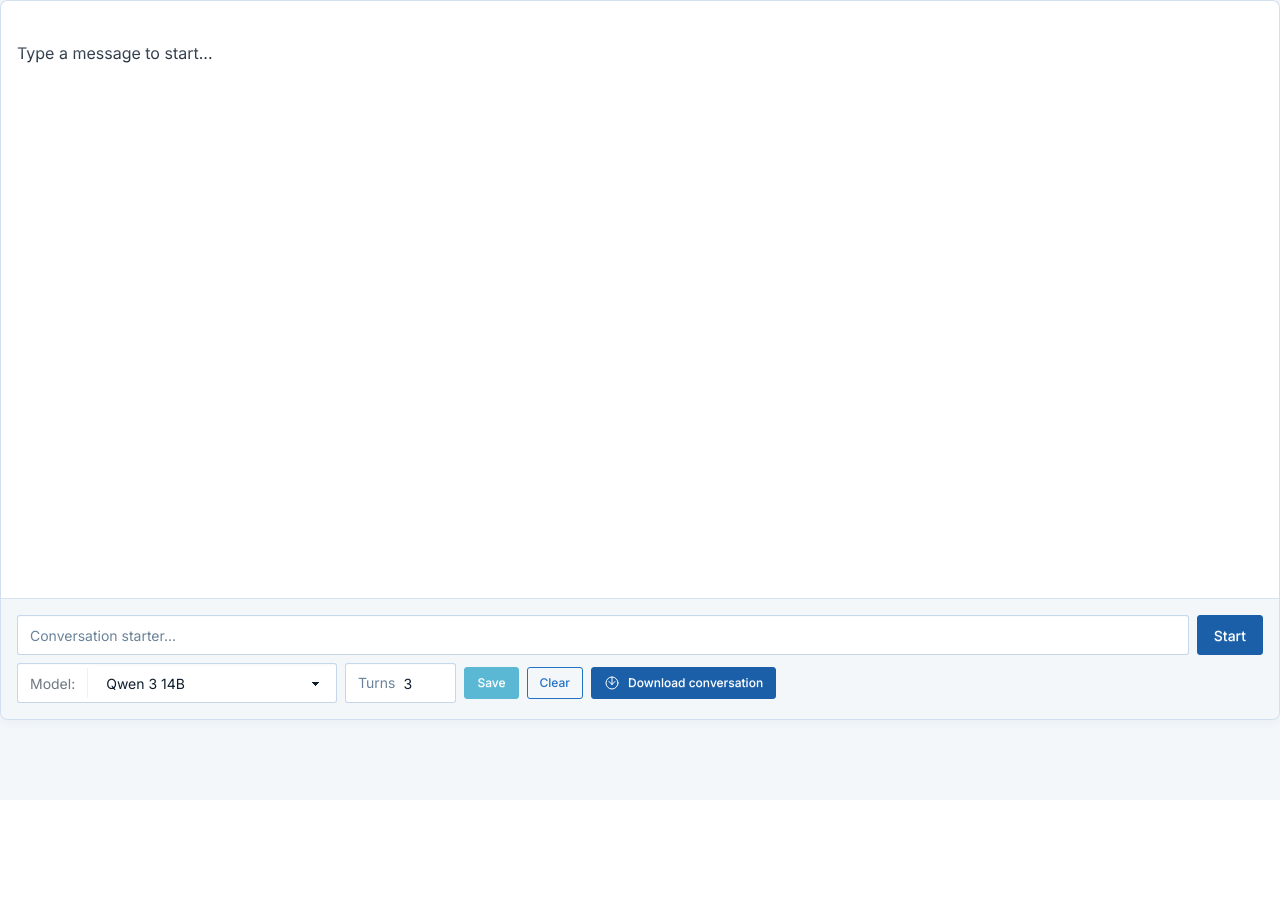
Test case: 13. Start sends POST to /api/conversation and appends user message
Type "Hello!" into the field with placeholder "Conversation starter..." at (603, 635), box [17,615,1189,655]
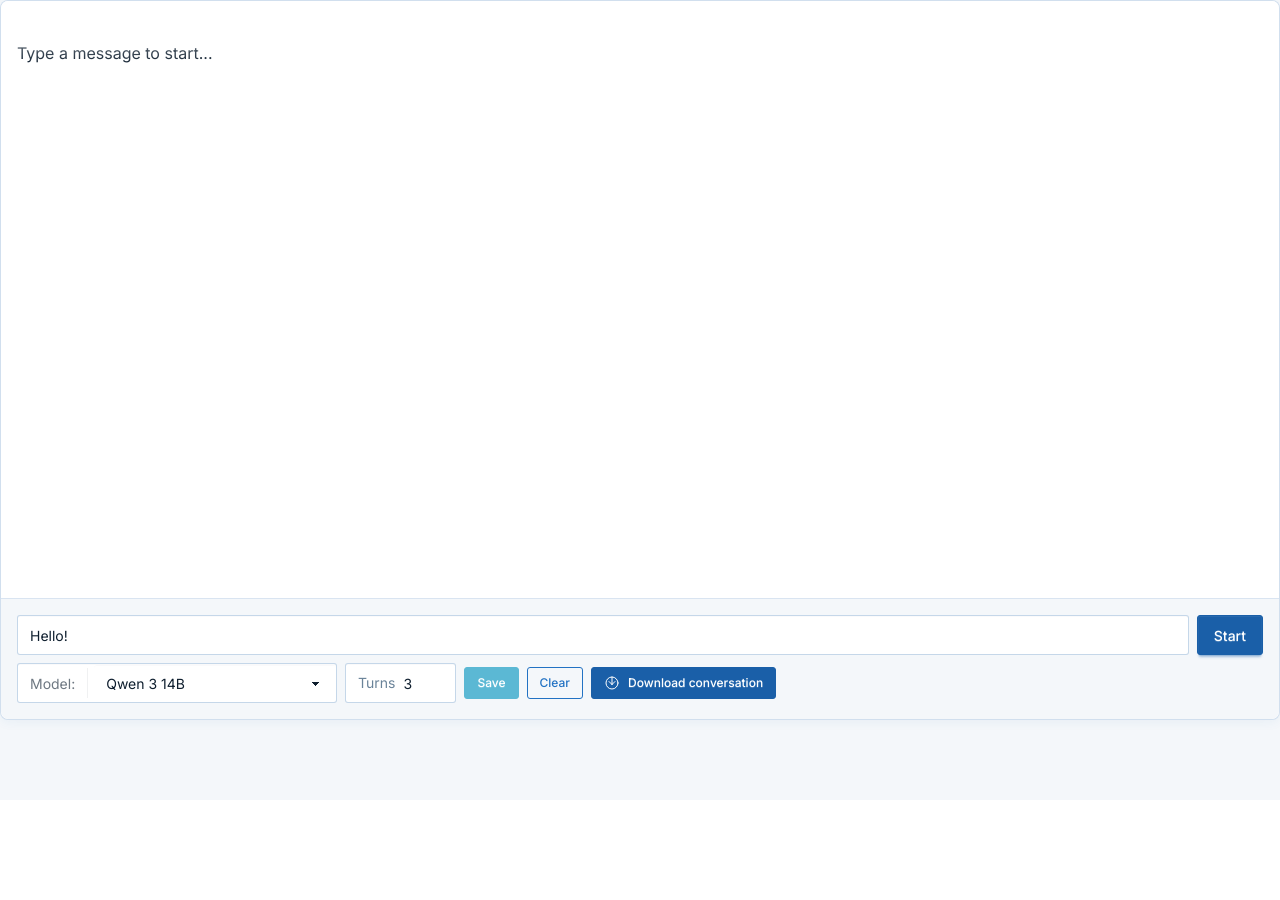
Click the button "Start" at (1230, 635), box [1197,615,1263,655]
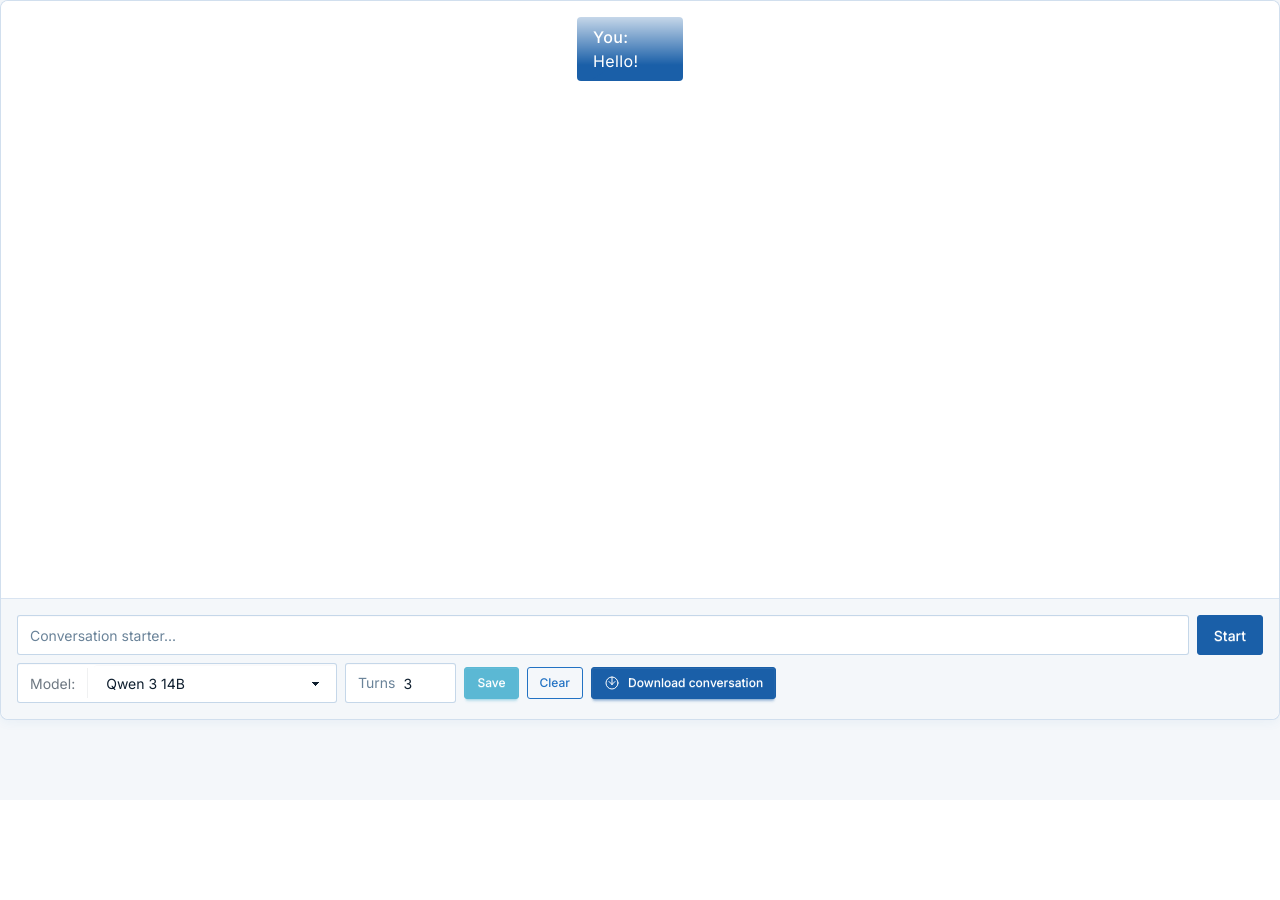
Check: the text "Hello!" is shown, box [593,51,639,71]
